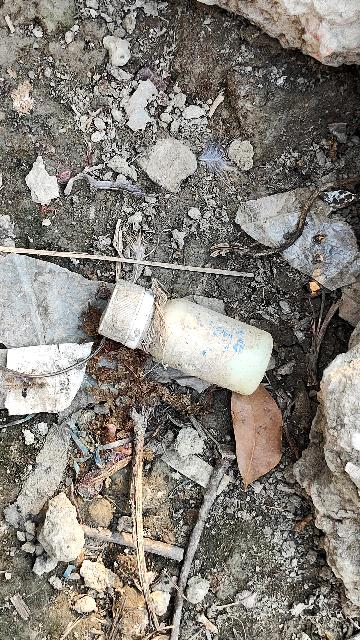bottle: (99, 276, 281, 389)
